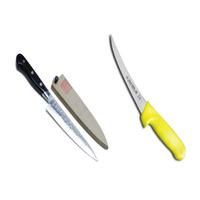knife: (107, 27, 189, 169), (14, 50, 97, 164)
